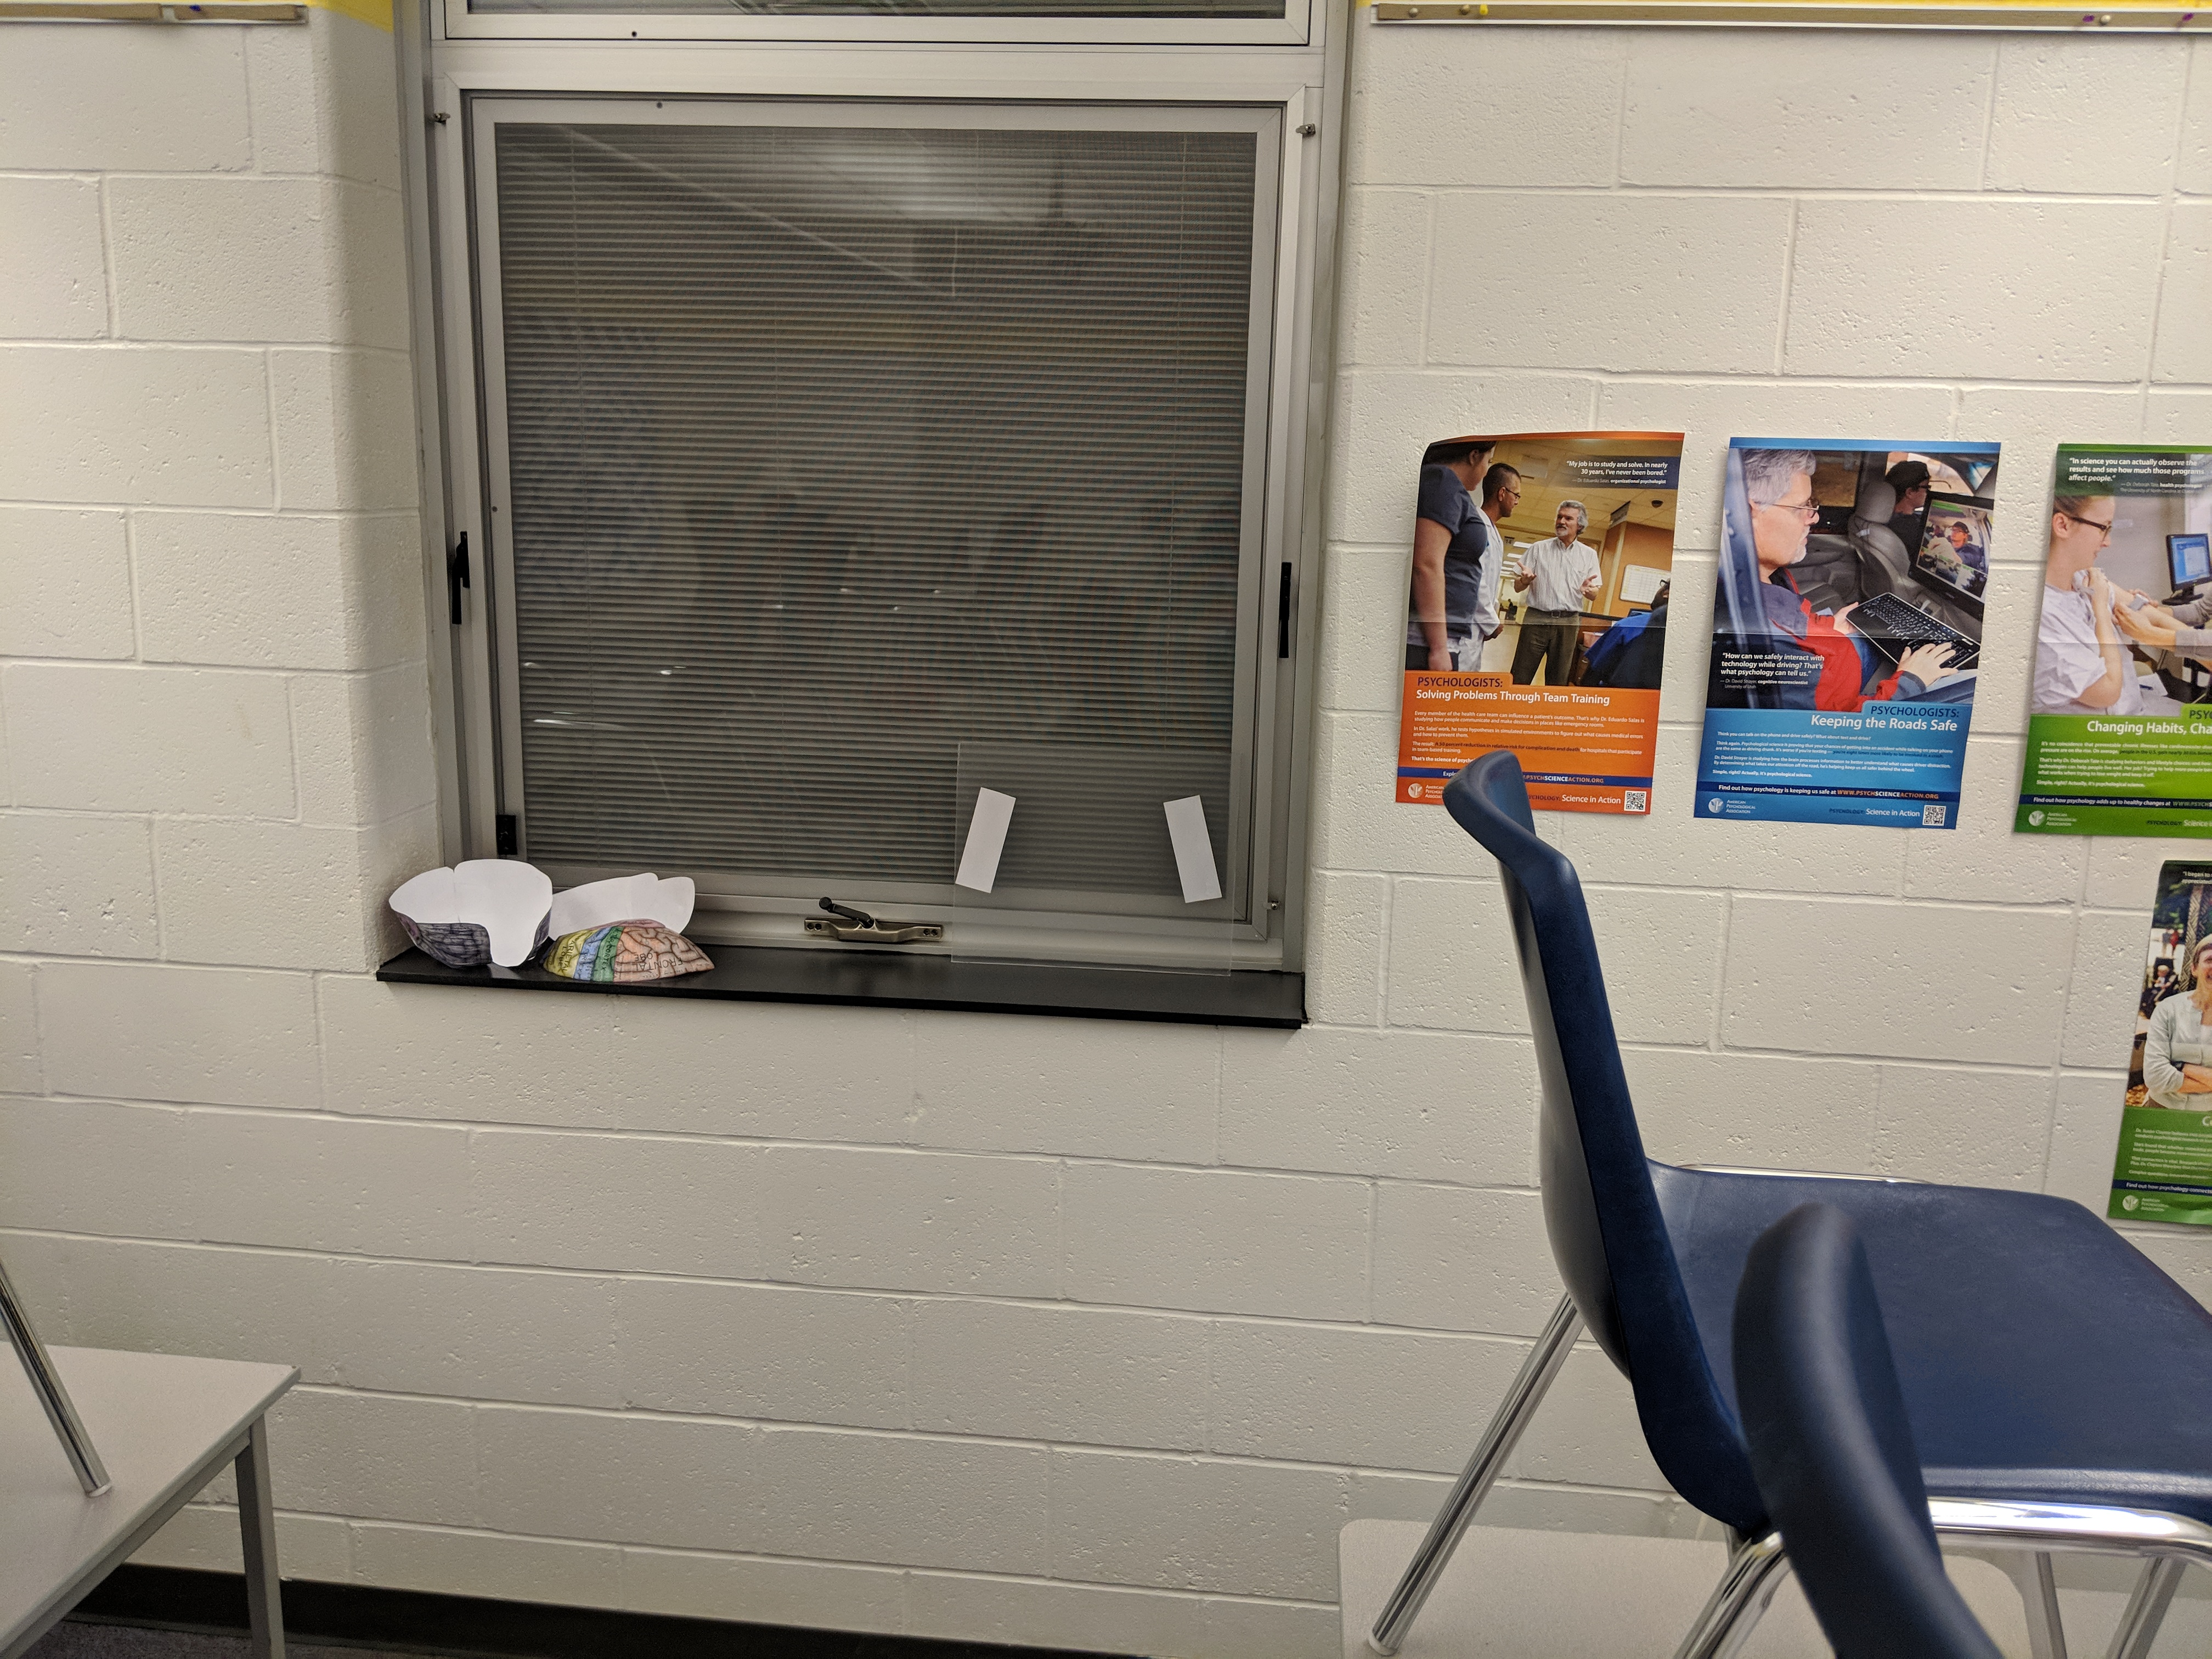vision_target: (948, 781, 1235, 911)
